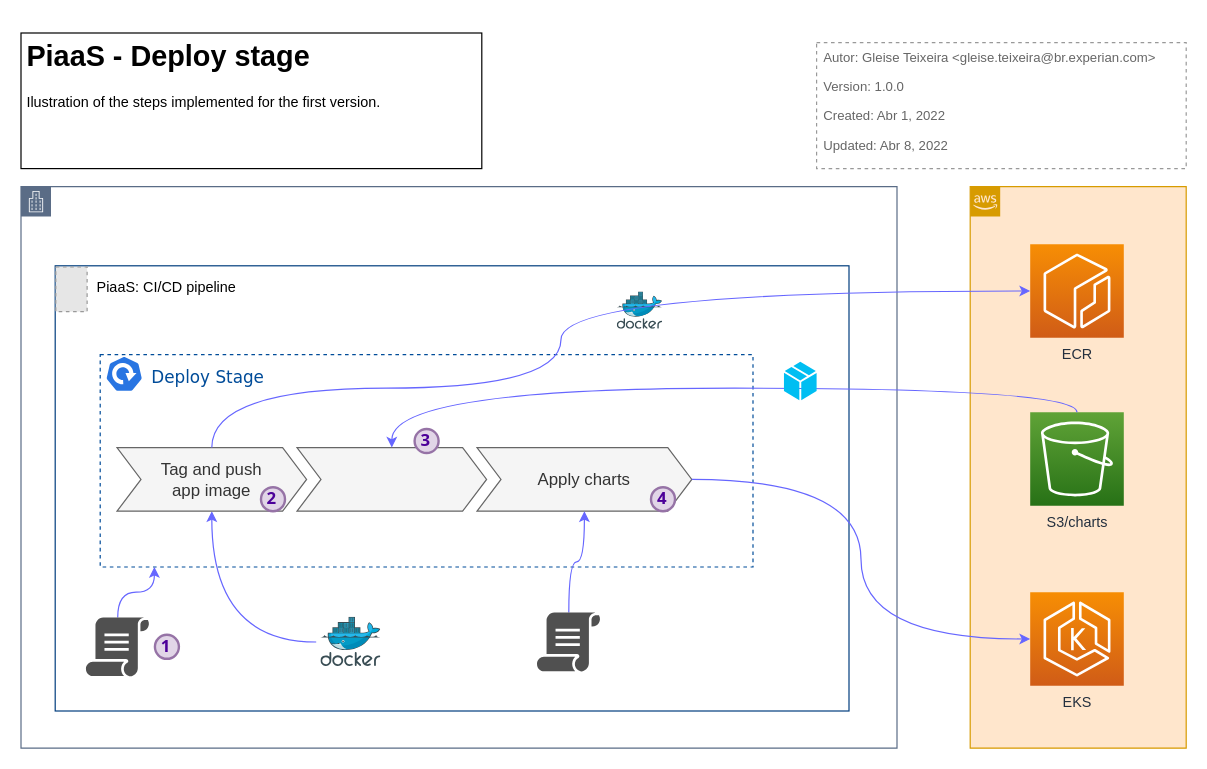
Some shapes in this 1207 by 769 pixel diagram are drawn without their labels. Grey dashed boxes stand in for pictures. The box of each missing label's shape, as (x1, y1, x2, y2) in pixels:
$awsProfile: (85, 617, 149, 676)
App Charts: (783, 361, 816, 400)
AWS Cloud: (969, 185, 1186, 748)
Get the app charts: (296, 446, 487, 511)
kubeconfig-$awsAccountID: (536, 612, 600, 671)
On-Premise: (20, 185, 897, 748)
